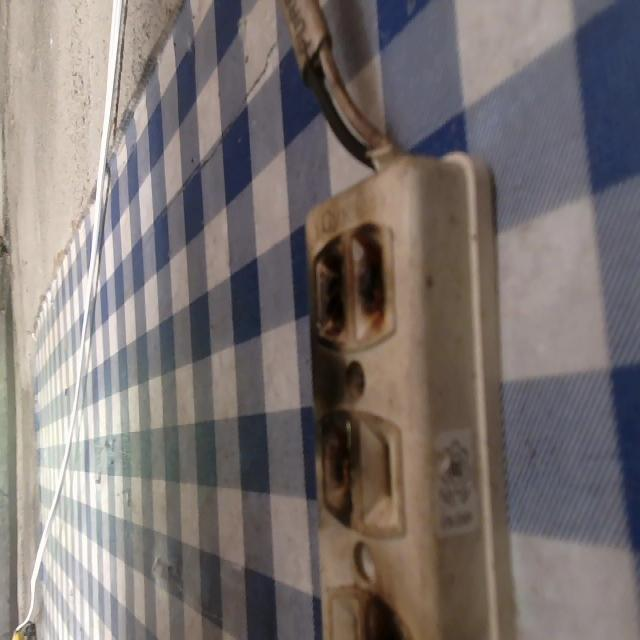-: (299, 218, 406, 358), (300, 406, 365, 534)
